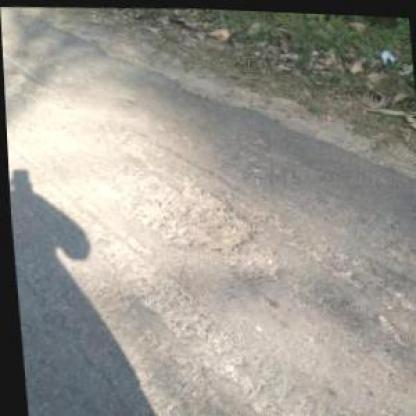pothole: (133, 173, 261, 255), (219, 248, 279, 286)
